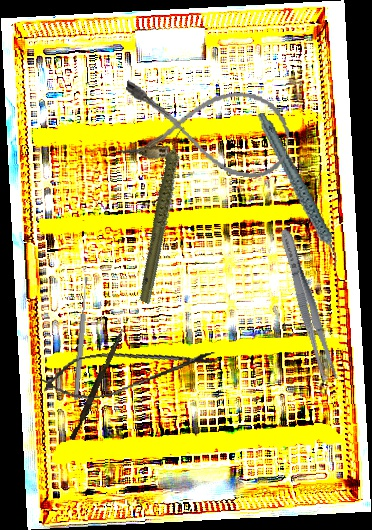Cannula: (115, 74, 295, 183)
Dressing Forceps: (274, 226, 341, 384)
Handpiece: (104, 125, 225, 305), (255, 103, 341, 278)
Micro Scissor: (37, 333, 221, 408)
Pusher: (69, 326, 125, 442)
Surgical Spoon: (72, 276, 91, 401)
